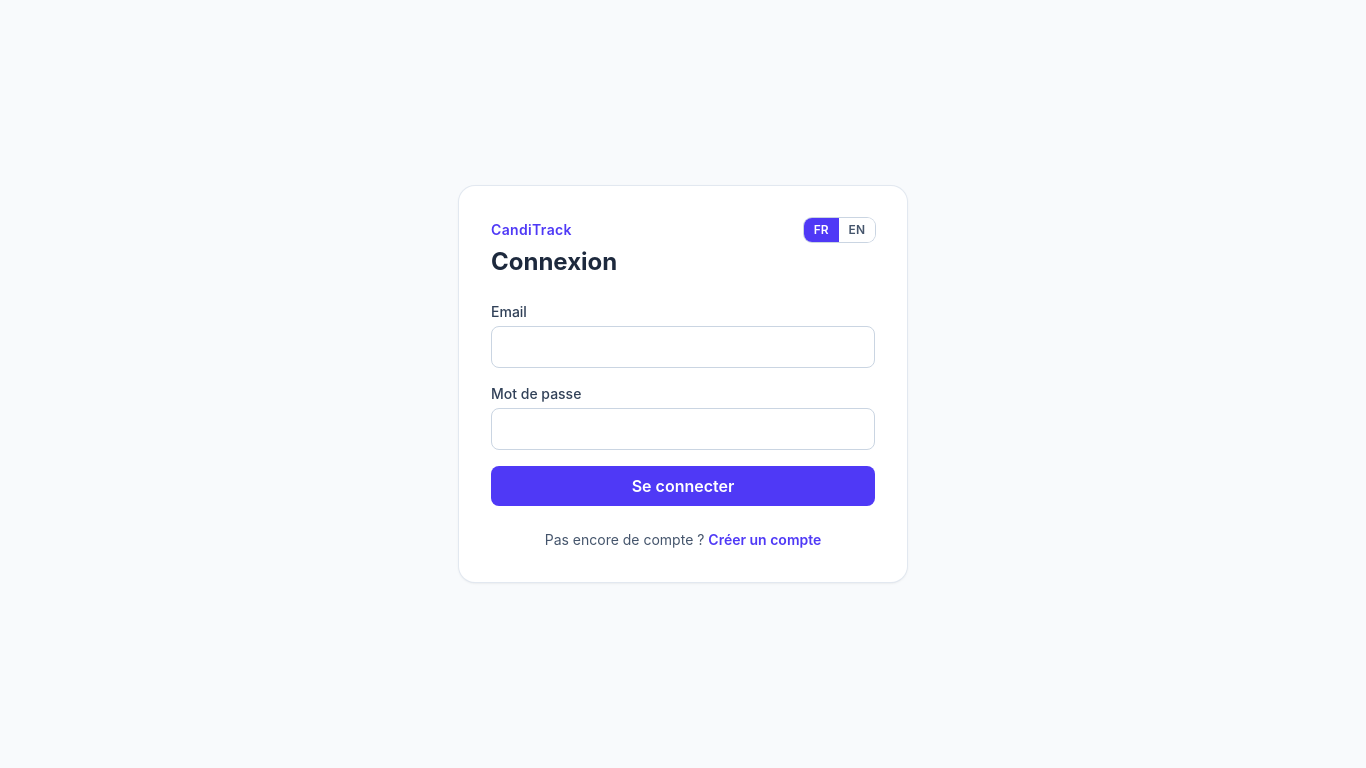
Test case: Authentification › connecte l’utilisateur et affiche ses candidatures
The width and height of the screenshot is (1366, 768).
In the field with id "email": (683, 347) [491,326,875,368], type "soumaya@example.com"
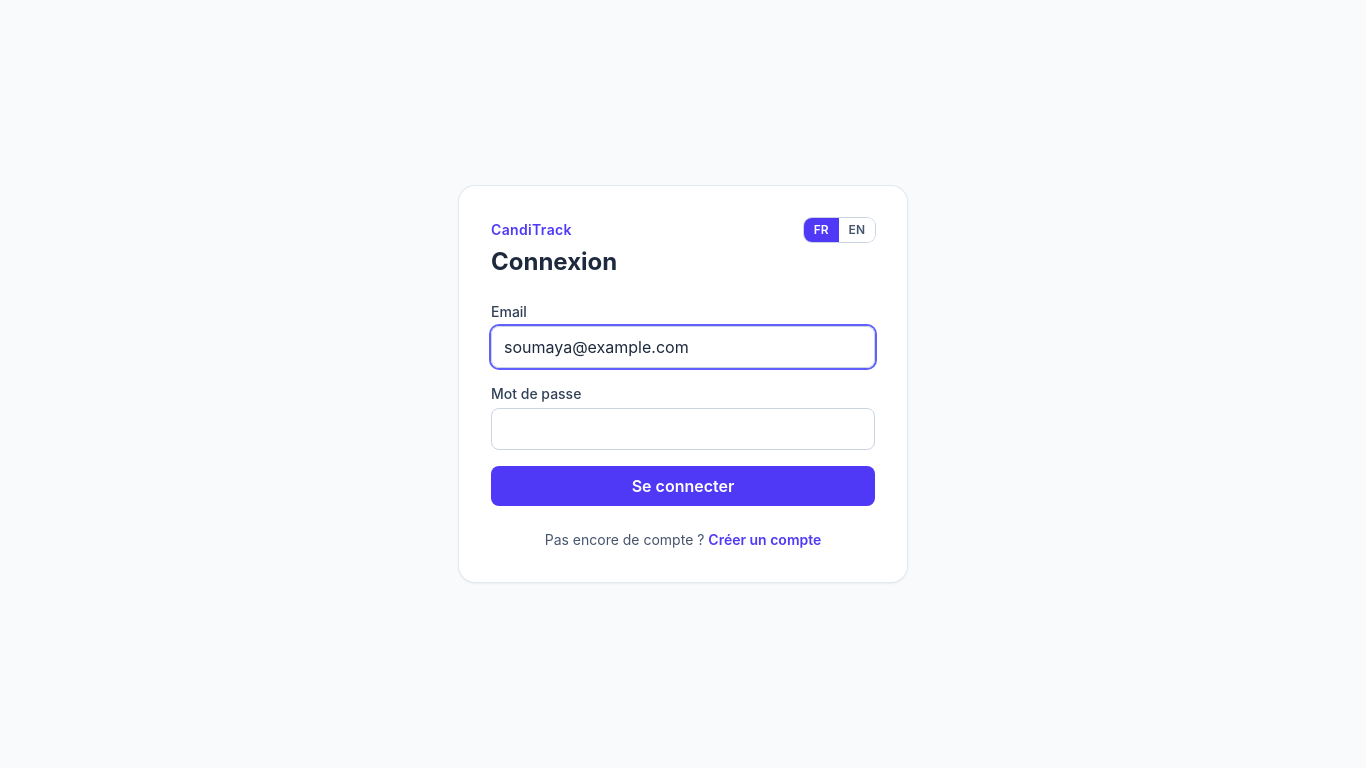
In the password field labelled "Mot de passe": (683, 429) [491,408,875,450], type "motdepasse123"
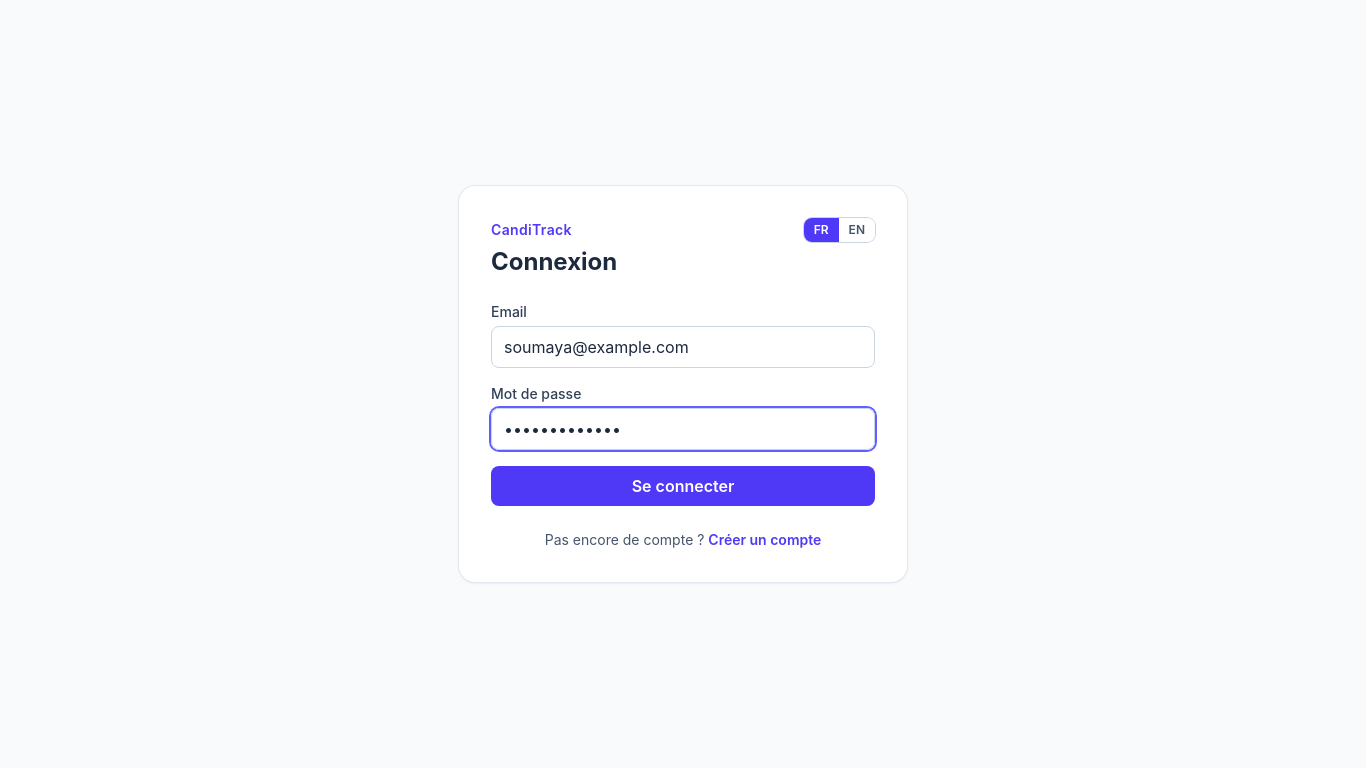
Click the button "Se connecter": (683, 486) [491,466,875,506]
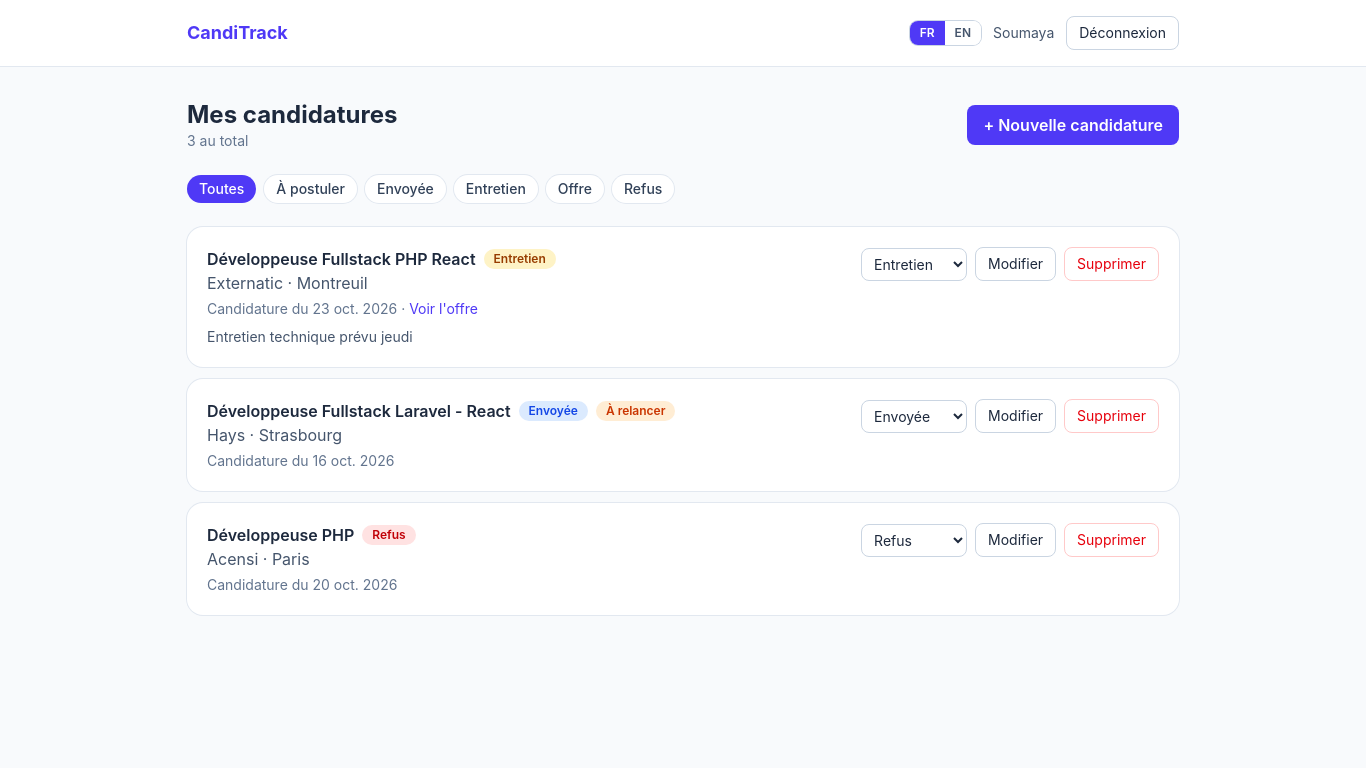
Expected: the heading "Mes candidatures" is shown, [187,99,397,131]
